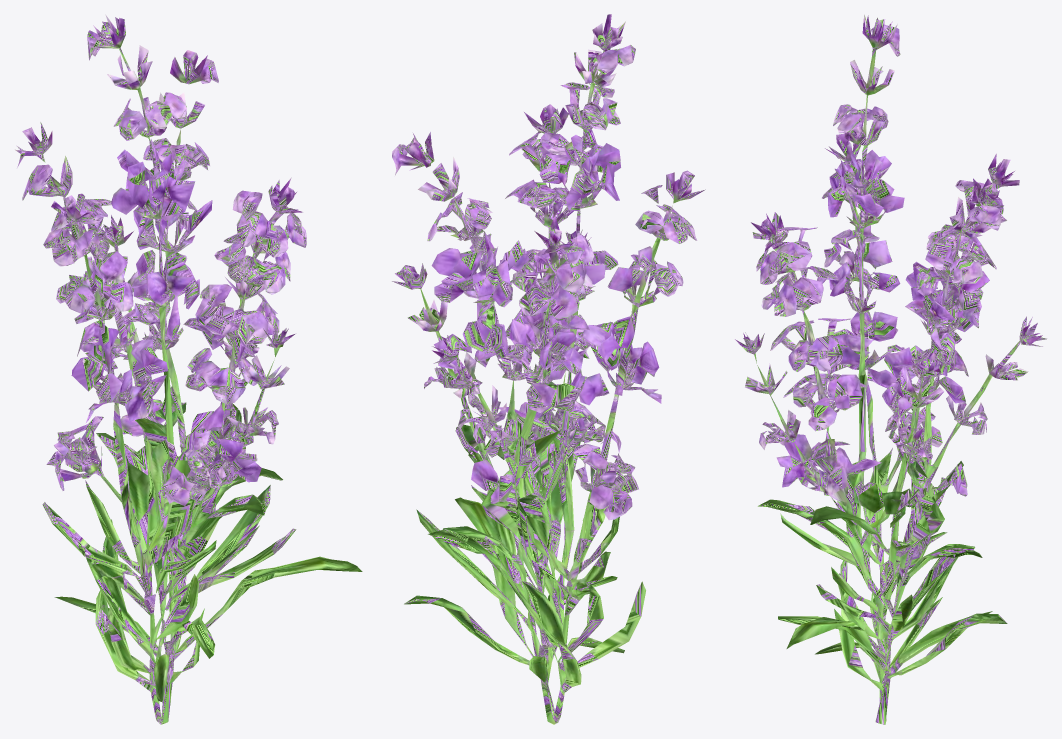
File: lavender.glb
3 views of the same model, side by side, from view 1: azimuth 30°, elevation 25°; view 2: azimuth 150°, elevation 25°; view 3: azimuth 270°, elevation 25° (orthographic). The views are drawn at different scales.
Size of the model in its own units: 0.7559 by 1.9 by 0.786.
Materials: 1 (1 with a texture image).
